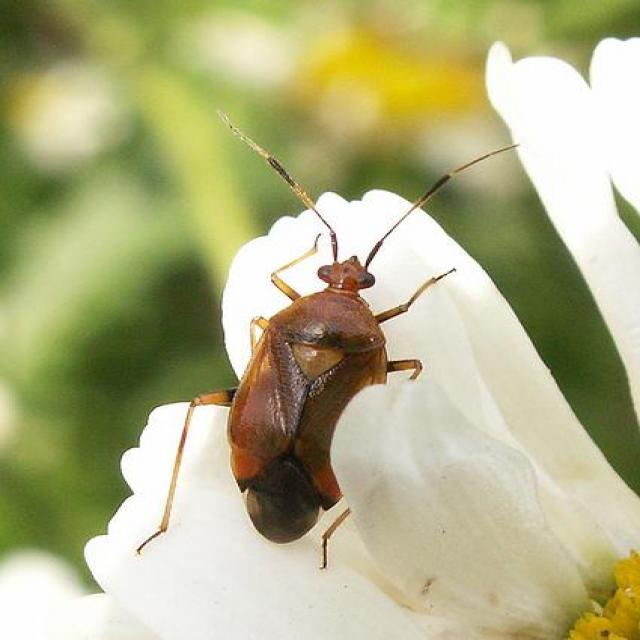Miridae-Adult-: (139, 97, 511, 578)
